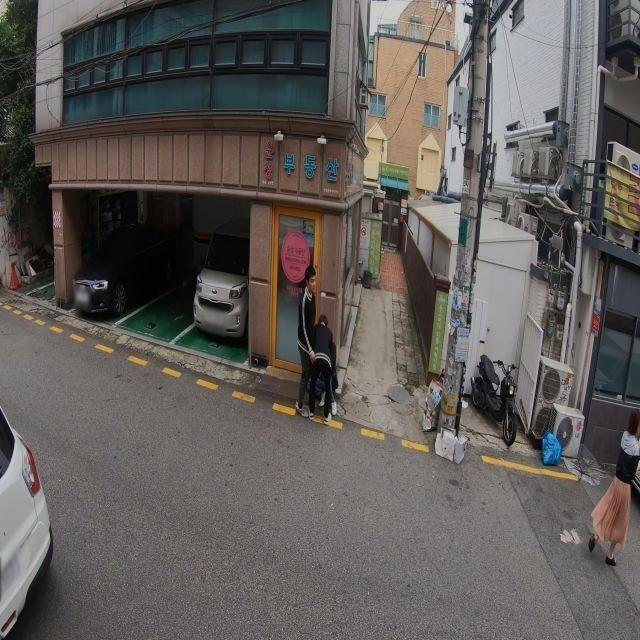fight: (292, 264, 339, 424)
